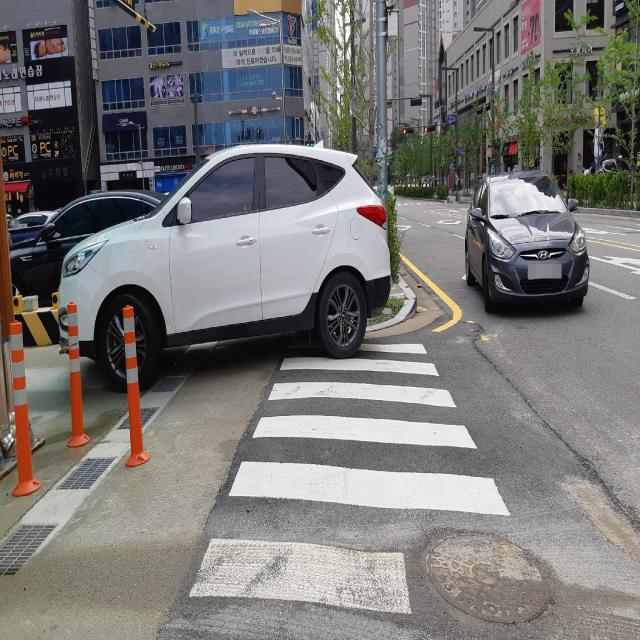횡단보도: (188, 342, 512, 616)
